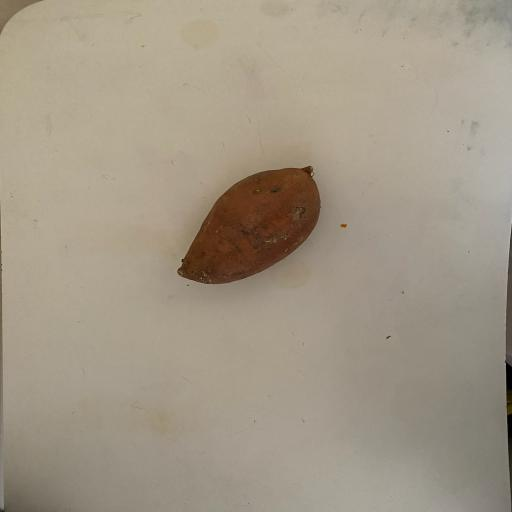sweet_potato: (145, 146, 361, 294)
